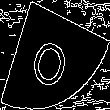O_N: (32, 22, 78, 88)
